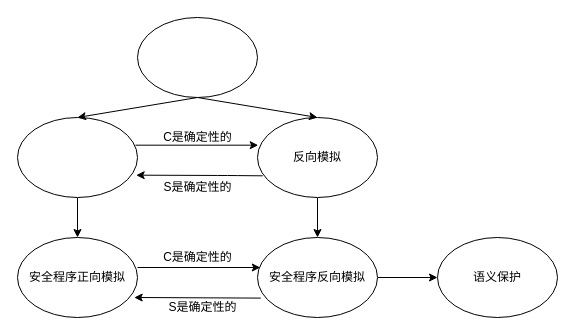
Some shapes in this 575 by 335 pixel diagram are drawn without their labels. The shapes that lost their labels are listed below. From the top down, each one's centre as x and y in pixels, then its label:
At (x=197, y=57): "双向模拟".
At (x=77, y=157): "正向模拟".
